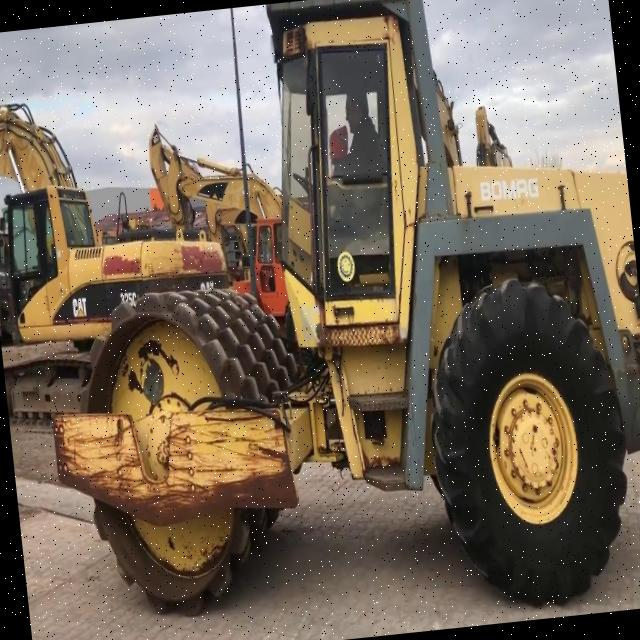Excavator: (0, 75, 242, 429)
Roller: (22, 0, 640, 633)
